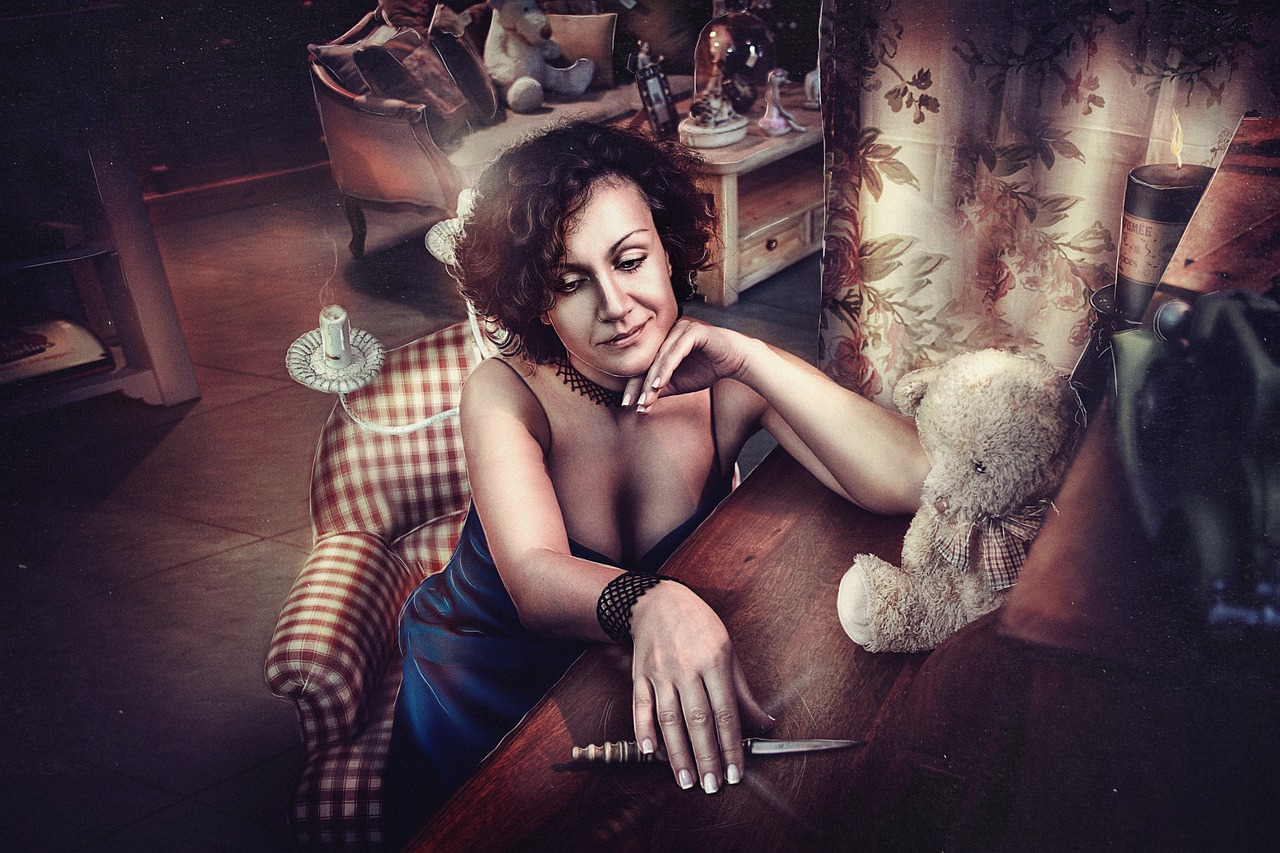knife: (562, 729, 874, 781)
